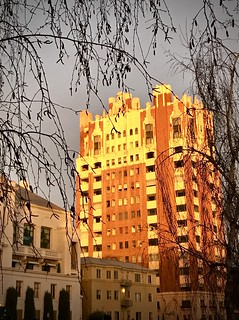medium: (73, 80, 229, 320)
